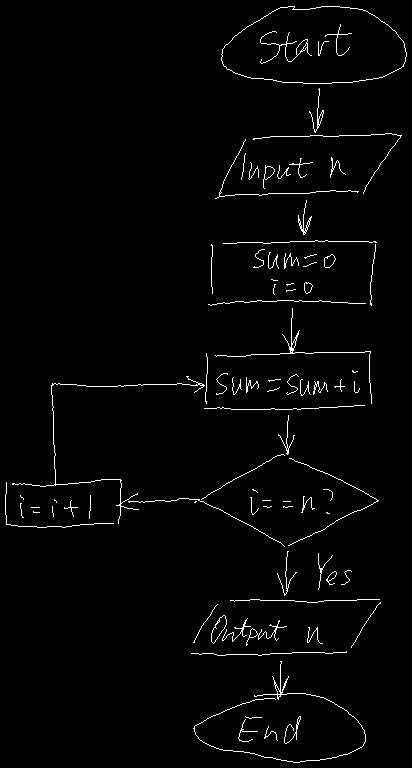arrow: (51, 376, 204, 485), (116, 493, 199, 509), (277, 551, 296, 595), (282, 308, 299, 352), (278, 415, 294, 454), (309, 88, 323, 132), (272, 661, 288, 699), (298, 200, 311, 234)
data: (215, 133, 401, 198), (191, 599, 380, 655)
decision: (198, 454, 378, 546)
process: (208, 240, 376, 305), (204, 351, 371, 409), (5, 479, 121, 527)
terminator: (221, 6, 406, 83), (193, 693, 365, 762)
text: (253, 249, 335, 294), (241, 153, 345, 188), (216, 370, 359, 395), (260, 24, 351, 63), (211, 615, 322, 645), (250, 489, 332, 514), (238, 716, 300, 743), (20, 495, 90, 518), (318, 553, 351, 589)
